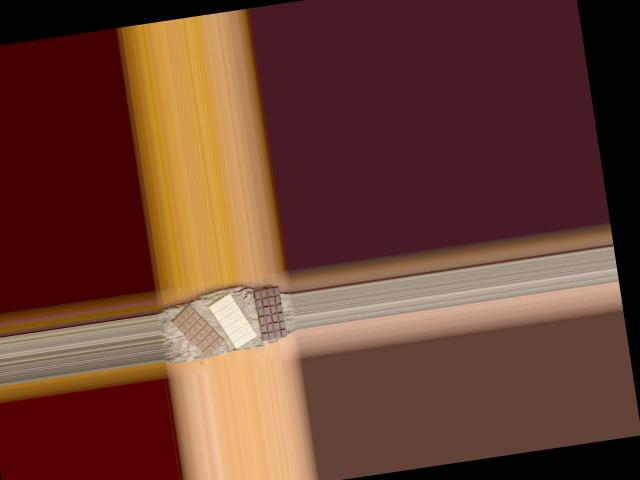chocolate: (253, 285, 288, 341)
